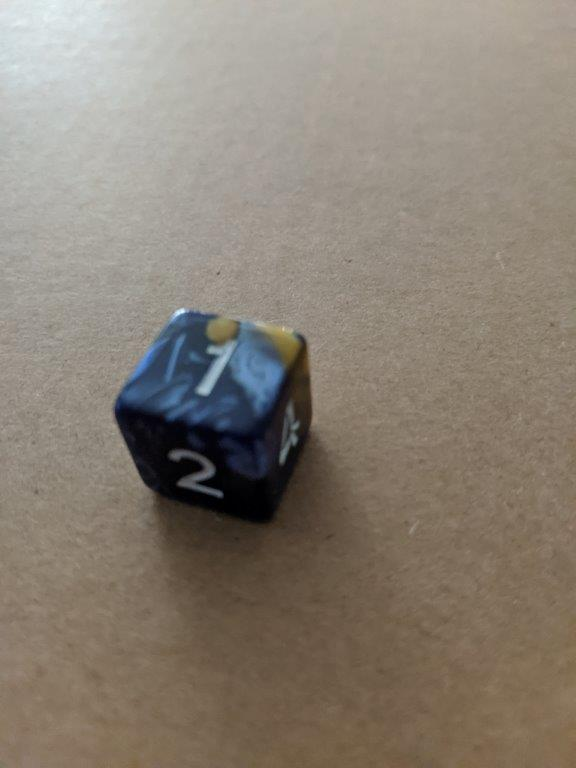d6-1: (110, 305, 317, 526)
